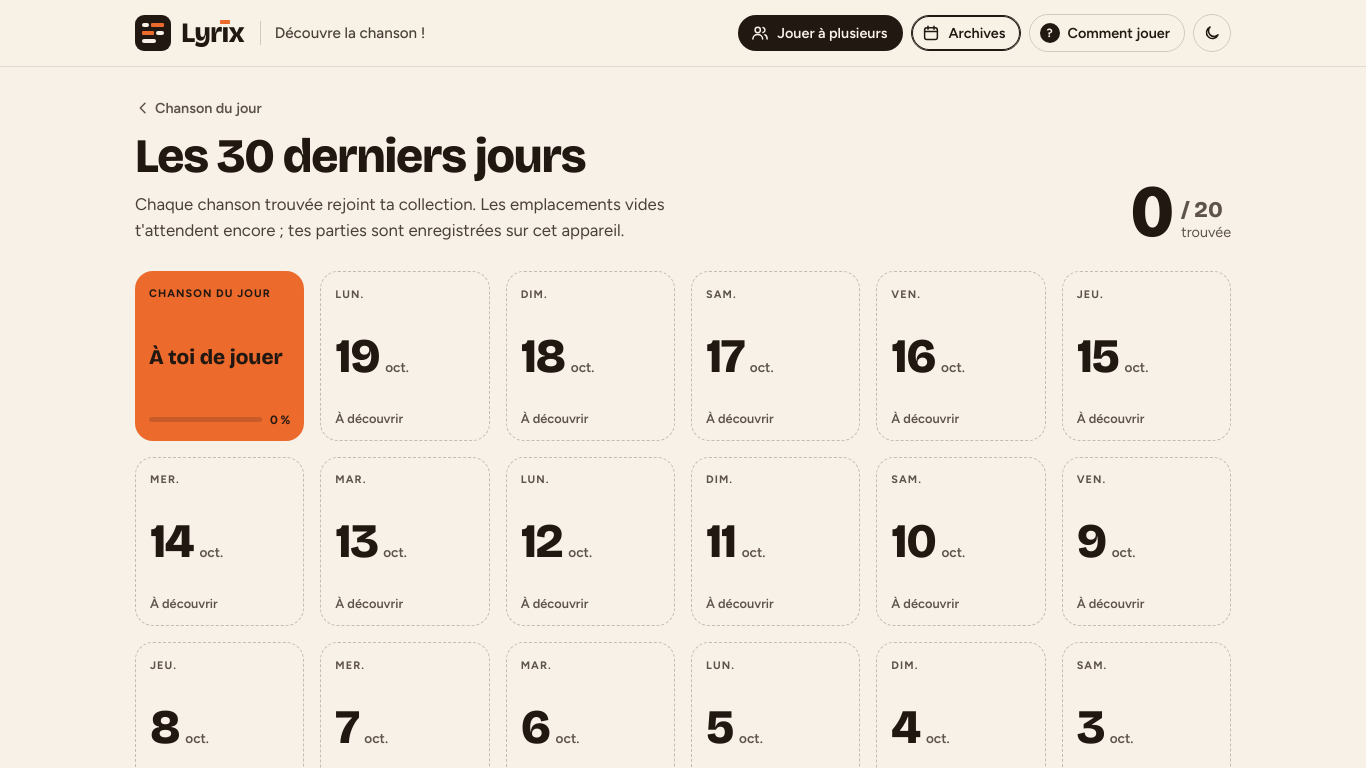
Scenario: the header's logo › goes from the archives screen to today's song
Check: the heading "Les 30 derniers jours" is shown, box [135, 127, 585, 185]
Click the link named "Lyrix, chanson du jour".
click(189, 33)  # box [135, 15, 244, 51]
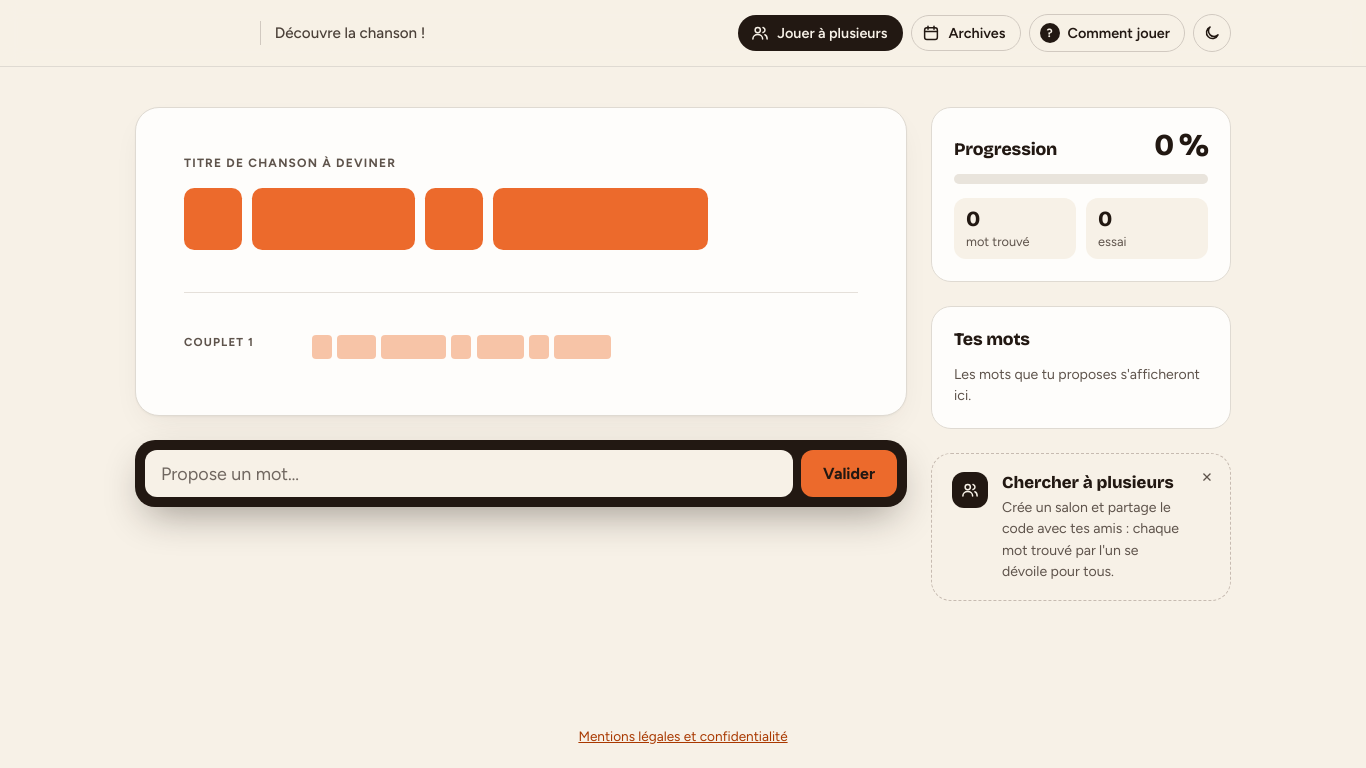
Check: the field with placeholder "Propose un mot…" is shown, box [145, 450, 793, 497]
Check: the heading "Les 30 derniers jours" is gone
